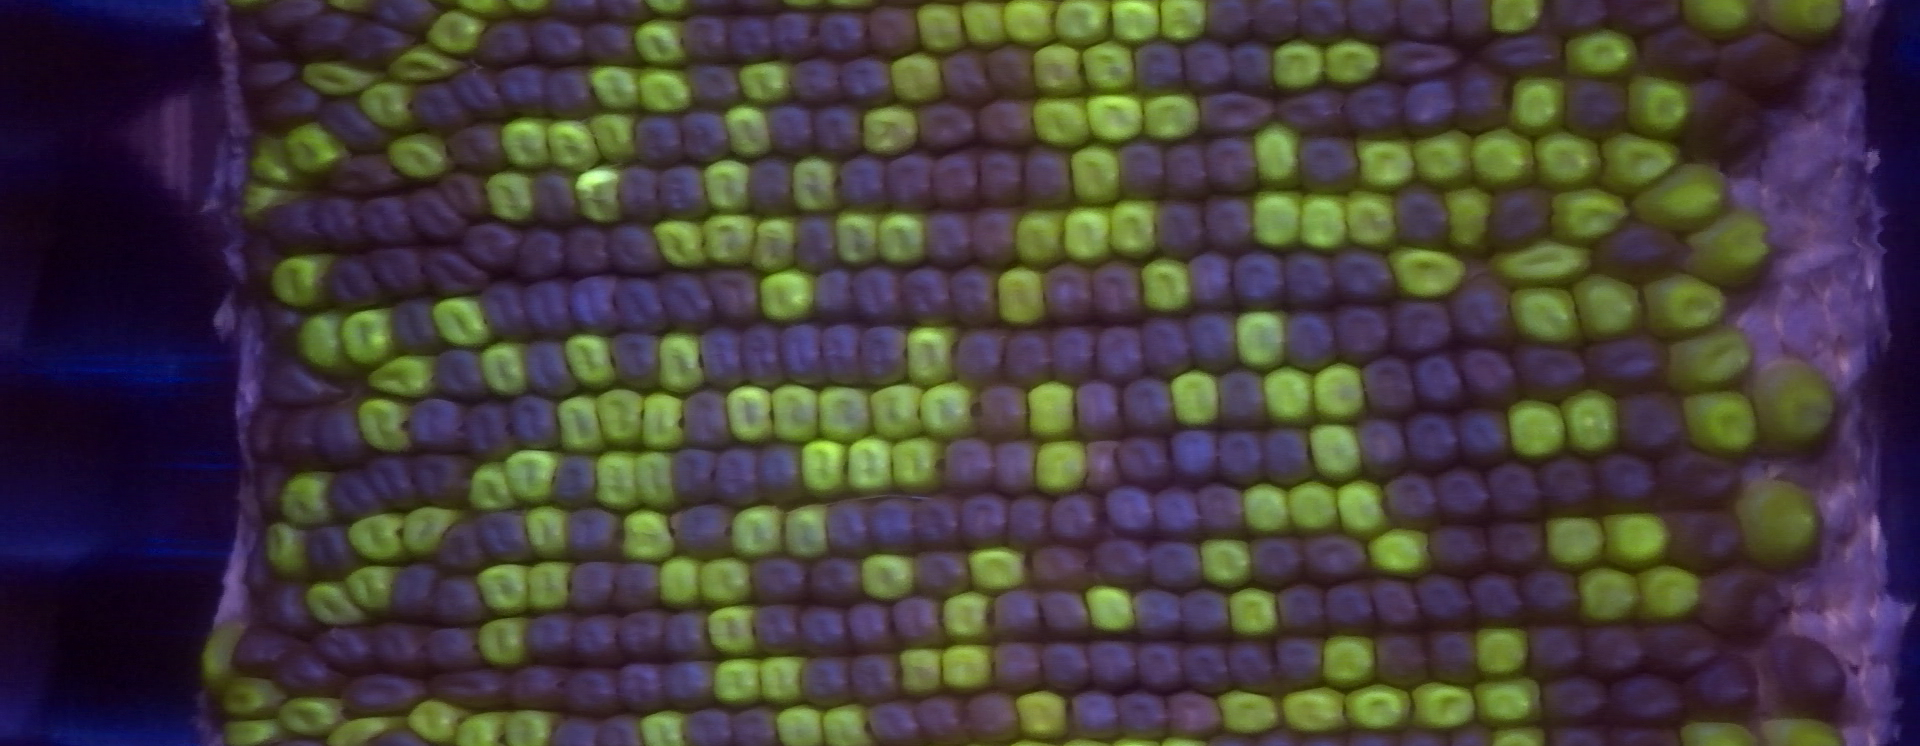fluorescent: (1729, 475, 1829, 576), (1745, 356, 1843, 457), (1678, 209, 1776, 294), (1629, 157, 1738, 233), (1633, 269, 1736, 345), (1662, 323, 1757, 397), (294, 298, 367, 388), (1483, 235, 1600, 292), (1565, 269, 1652, 344), (1680, 386, 1766, 461), (1596, 127, 1685, 198), (1504, 281, 1589, 354), (190, 616, 255, 713), (1385, 239, 1472, 309), (1544, 184, 1637, 247), (263, 246, 345, 315), (1629, 70, 1700, 146), (1598, 505, 1675, 575), (1528, 127, 1607, 196), (1572, 561, 1652, 628), (1632, 561, 1706, 632), (381, 122, 460, 187), (1504, 396, 1573, 468), (244, 129, 320, 195), (1558, 386, 1624, 462), (1411, 126, 1483, 195), (1468, 122, 1536, 195), (1540, 510, 1613, 577), (793, 431, 858, 503), (1292, 186, 1354, 261), (269, 467, 347, 527), (593, 376, 651, 454), (1248, 185, 1311, 257), (398, 501, 471, 563), (1561, 28, 1646, 82), (1032, 88, 1100, 156), (1309, 360, 1375, 429), (1352, 132, 1422, 197), (1059, 201, 1120, 274), (356, 77, 432, 136), (432, 288, 498, 355), (918, 376, 984, 443), (492, 113, 562, 176), (1025, 436, 1095, 500), (1315, 631, 1385, 695), (300, 51, 391, 100), (1340, 187, 1402, 258), (1442, 180, 1499, 258), (283, 122, 358, 181), (1251, 115, 1307, 195), (1755, 1, 1851, 47), (866, 379, 933, 443), (1138, 254, 1201, 322), (1138, 91, 1209, 152), (648, 213, 719, 274), (476, 331, 538, 402), (298, 578, 375, 635), (767, 379, 827, 451), (1307, 415, 1367, 488), (383, 40, 471, 89), (1025, 38, 1092, 102), (339, 305, 403, 372), (361, 352, 441, 405), (1277, 682, 1356, 736), (1338, 681, 1420, 733), (936, 584, 1000, 649), (471, 555, 538, 619), (857, 100, 926, 162), (356, 392, 418, 461), (231, 176, 311, 229), (1403, 680, 1483, 733), (1211, 685, 1291, 737), (1079, 88, 1149, 148), (890, 429, 950, 499), (1106, 194, 1164, 265), (756, 265, 820, 328), (560, 330, 622, 396), (1013, 205, 1071, 274), (994, 262, 1053, 332), (402, 695, 482, 745), (816, 383, 879, 447), (1232, 307, 1294, 372), (729, 501, 791, 566), (1262, 365, 1324, 431), (1166, 365, 1226, 432), (789, 151, 847, 219), (590, 445, 649, 513), (1340, 475, 1398, 544), (1509, 70, 1567, 138), (651, 330, 709, 399), (933, 639, 1003, 697), (1079, 37, 1142, 99), (888, 49, 951, 111), (1471, 621, 1533, 685), (615, 506, 680, 567), (692, 552, 758, 612), (424, 6, 493, 62), (1069, 140, 1125, 209), (569, 158, 626, 228), (552, 391, 609, 461), (1318, 36, 1389, 91), (902, 318, 958, 390), (842, 429, 898, 500), (1022, 379, 1082, 443), (910, 1, 976, 60), (345, 508, 411, 567), (1675, 1, 1763, 45), (962, 544, 1037, 595), (1269, 34, 1331, 96), (872, 208, 933, 271), (1239, 480, 1300, 543), (704, 600, 765, 663), (541, 116, 605, 176), (480, 165, 540, 229), (474, 612, 538, 673), (588, 107, 647, 171), (518, 499, 577, 563), (653, 552, 711, 617), (1223, 581, 1288, 639), (629, 13, 696, 71), (637, 385, 689, 457), (1009, 687, 1078, 742), (719, 103, 778, 167), (702, 209, 760, 273), (1195, 535, 1259, 594), (633, 443, 686, 514), (722, 382, 779, 448), (216, 674, 293, 722), (1284, 478, 1344, 539), (256, 521, 315, 583), (464, 458, 527, 516), (856, 550, 922, 604), (705, 655, 771, 709), (831, 206, 884, 273), (634, 64, 699, 118), (733, 58, 800, 110), (271, 692, 351, 735), (340, 560, 403, 615), (754, 650, 817, 706), (507, 443, 560, 508), (704, 156, 756, 222), (782, 497, 834, 563), (1367, 534, 1438, 582), (1051, 1, 1118, 51), (519, 556, 577, 614), (587, 62, 647, 118), (1082, 584, 1142, 639), (746, 214, 798, 277), (1104, 1, 1167, 53), (894, 642, 949, 699), (1000, 1, 1060, 54), (318, 713, 413, 746), (955, 1, 1011, 56), (771, 699, 838, 746), (500, 703, 567, 746), (212, 713, 298, 746), (1155, 1, 1212, 49), (817, 701, 876, 746), (1484, 1, 1549, 40), (452, 708, 513, 746), (636, 706, 692, 746)
nonfluorescent: (1776, 627, 1847, 715), (1696, 567, 1778, 639), (1689, 80, 1761, 159), (1664, 510, 1746, 565), (1720, 32, 1798, 89), (1667, 450, 1739, 506), (1640, 627, 1720, 677), (1517, 341, 1584, 401), (1586, 336, 1664, 387), (1453, 276, 1509, 348), (1390, 181, 1450, 247), (1684, 657, 1757, 710), (1596, 224, 1678, 272), (1618, 668, 1684, 726), (271, 649, 347, 699), (1618, 393, 1678, 454), (355, 189, 418, 247), (424, 244, 486, 303), (339, 673, 422, 717), (1453, 62, 1509, 129), (320, 98, 388, 151), (1638, 26, 1712, 75), (327, 247, 382, 312), (1540, 673, 1611, 723), (1597, 450, 1657, 508), (1389, 298, 1449, 354), (263, 196, 324, 251), (1332, 250, 1396, 303), (927, 147, 978, 212), (856, 263, 909, 326), (267, 358, 339, 403), (1479, 34, 1562, 73), (1300, 132, 1358, 189), (658, 273, 713, 332), (1046, 263, 1100, 323), (671, 507, 732, 560), (287, 9, 351, 58), (1544, 453, 1600, 510), (1198, 93, 1276, 134), (321, 394, 360, 475), (1414, 575, 1473, 628), (1278, 92, 1348, 137), (707, 271, 767, 323), (610, 330, 662, 390), (904, 268, 960, 323), (1569, 77, 1622, 135), (616, 273, 669, 332), (460, 223, 520, 274), (1157, 198, 1209, 258), (460, 398, 507, 464), (1092, 262, 1142, 323), (912, 549, 973, 599), (1498, 186, 1547, 249), (1354, 414, 1403, 477), (1305, 533, 1368, 582), (342, 23, 410, 67), (1122, 377, 1173, 436), (891, 597, 950, 648), (867, 492, 913, 557), (229, 628, 291, 676), (920, 211, 975, 265), (1283, 251, 1338, 305), (1524, 573, 1578, 628), (1324, 581, 1375, 638), (1467, 571, 1518, 628), (1582, 622, 1640, 674), (530, 165, 580, 224), (1382, 40, 1460, 78), (432, 666, 509, 704), (444, 125, 506, 173), (1353, 83, 1406, 138), (409, 397, 464, 450), (481, 510, 534, 565), (1371, 632, 1427, 685), (482, 284, 534, 341), (448, 69, 506, 119), (609, 220, 659, 278), (431, 571, 481, 628), (955, 330, 1004, 388), (1458, 408, 1507, 467), (369, 246, 429, 294), (507, 392, 553, 453), (369, 624, 430, 670), (525, 285, 579, 338), (989, 587, 1042, 641), (940, 50, 992, 105), (388, 565, 438, 621), (223, 9, 280, 58), (1236, 250, 1280, 314), (699, 327, 744, 388), (1529, 627, 1582, 680), (410, 186, 462, 240), (1131, 37, 1182, 92), (1207, 138, 1258, 194), (436, 345, 486, 401), (1249, 535, 1304, 586), (969, 208, 1018, 265), (824, 500, 873, 556), (915, 103, 973, 149), (571, 282, 622, 334), (1150, 537, 1202, 588), (984, 42, 1035, 96), (765, 102, 816, 156), (389, 298, 440, 352), (413, 85, 468, 134), (836, 153, 885, 208), (781, 327, 825, 388), (369, 450, 413, 511), (1389, 474, 1438, 529), (1407, 80, 1455, 136), (1140, 318, 1188, 375), (1171, 428, 1217, 485), (863, 326, 909, 385), (1262, 428, 1308, 486), (749, 151, 791, 214), (980, 145, 1024, 205), (277, 405, 321, 465), (1076, 379, 1120, 439), (942, 439, 992, 491), (1000, 326, 1049, 380), (800, 657, 853, 706), (1284, 314, 1332, 369), (1131, 587, 1179, 642), (1278, 635, 1321, 696), (812, 267, 858, 323), (566, 560, 611, 617), (1027, 544, 1085, 589), (1117, 141, 1161, 200), (1190, 252, 1239, 305), (309, 527, 358, 579), (867, 6, 921, 54), (1182, 587, 1229, 641), (684, 390, 730, 446), (917, 696, 973, 741), (980, 100, 1037, 145), (1052, 325, 1096, 382), (758, 441, 802, 499), (1408, 412, 1452, 469), (962, 492, 1007, 550), (767, 9, 816, 60), (566, 506, 615, 557), (887, 158, 934, 211), (1466, 350, 1513, 403), (525, 615, 573, 668), (1275, 589, 1322, 642), (550, 450, 596, 503), (1162, 145, 1207, 200), (318, 627, 373, 673), (793, 214, 838, 271), (955, 262, 996, 323), (1491, 461, 1532, 522), (525, 338, 568, 396), (634, 114, 683, 164), (440, 169, 489, 219), (1093, 535, 1144, 584), (429, 624, 479, 673), (659, 168, 707, 219), (978, 383, 1026, 435), (1218, 374, 1266, 425), (1438, 472, 1485, 523), (813, 556, 861, 608), (687, 62, 740, 109), (1205, 196, 1251, 249), (1365, 356, 1412, 409), (1420, 633, 1473, 680), (257, 85, 320, 124), (713, 447, 758, 501), (749, 559, 803, 604), (568, 663, 613, 717), (331, 465, 375, 521), (1044, 588, 1089, 643), (1026, 149, 1069, 206), (1127, 434, 1169, 490), (1337, 312, 1386, 361), (796, 605, 845, 654), (812, 108, 862, 156), (416, 454, 467, 502), (969, 691, 1019, 739), (516, 229, 562, 281), (994, 639, 1040, 692), (1395, 1, 1453, 42), (684, 109, 729, 163), (1191, 314, 1236, 367), (504, 669, 567, 707), (1097, 325, 1140, 380), (251, 2, 320, 37), (238, 56, 298, 96), (864, 704, 924, 744), (1220, 425, 1261, 481), (844, 58, 893, 105), (744, 320, 781, 383), (1431, 526, 1480, 573), (437, 524, 487, 571), (665, 611, 711, 661), (331, 156, 403, 187), (1052, 494, 1100, 541), (501, 62, 547, 111), (621, 658, 661, 714), (571, 615, 616, 665), (666, 659, 711, 709), (1007, 494, 1051, 545), (528, 20, 580, 62), (615, 162, 658, 214), (1155, 488, 1198, 540), (1202, 484, 1245, 537), (478, 20, 531, 61), (264, 584, 311, 632), (753, 606, 801, 653), (1091, 637, 1134, 688), (1232, 43, 1273, 96), (615, 617, 667, 659), (825, 322, 863, 380), (1109, 489, 1156, 535), (851, 653, 898, 699), (1117, 693, 1164, 739), (1420, 355, 1460, 410), (673, 446, 713, 501), (613, 561, 658, 610), (1494, 522, 1543, 566), (1073, 695, 1123, 737), (549, 65, 589, 118), (997, 437, 1037, 490), (320, 194, 356, 251), (789, 61, 838, 104), (916, 499, 959, 548), (850, 601, 893, 650), (1187, 642, 1226, 695), (1547, 1, 1607, 36), (682, 20, 729, 64), (817, 13, 864, 56), (1042, 639, 1084, 688), (584, 20, 636, 59), (1232, 636, 1270, 688), (1138, 642, 1182, 687), (373, 1, 436, 33), (1184, 42, 1227, 87), (1171, 696, 1220, 735), (1376, 583, 1417, 628), (731, 13, 771, 58), (1449, 1, 1490, 43), (1610, 2, 1680, 27), (682, 710, 733, 744), (1349, 1, 1398, 36), (569, 225, 604, 274), (1300, 1, 1344, 39), (249, 396, 277, 454), (1251, 1, 1298, 37), (1085, 442, 1120, 489), (737, 707, 780, 744), (1205, 2, 1249, 38), (260, 299, 296, 338), (260, 465, 288, 508), (598, 718, 642, 744), (547, 1, 599, 20), (605, 1, 650, 20)
